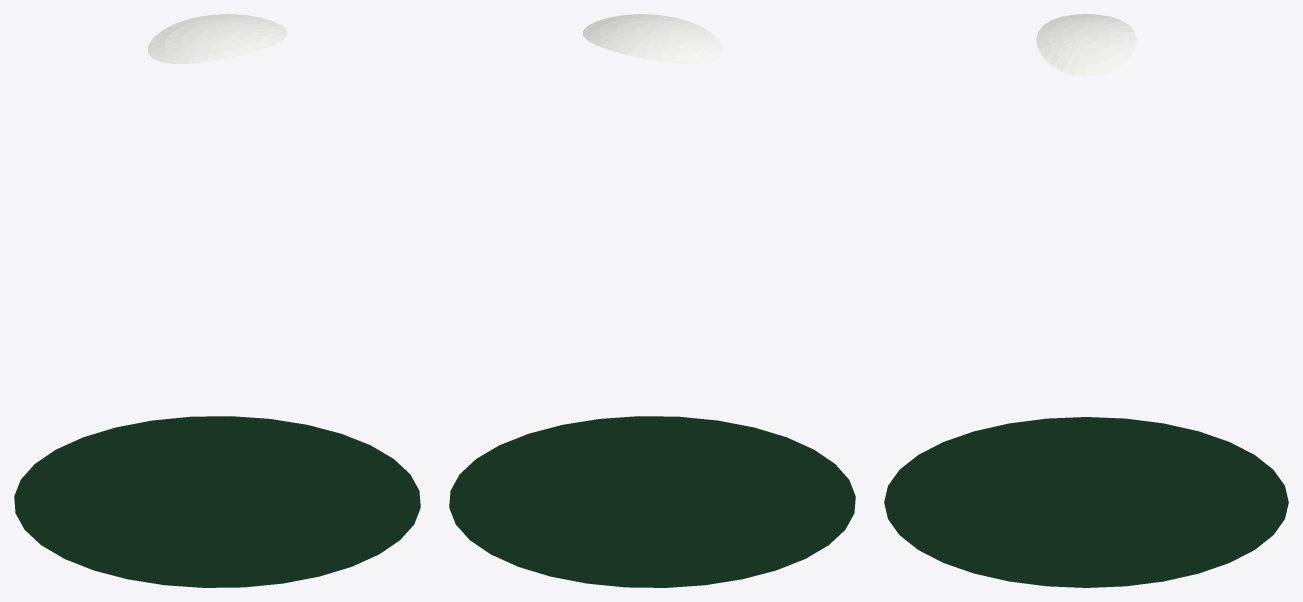
Rendered from gloss.obj.
3 views of the same model, side by side, from view 1: azimuth 30°, elevation 25°; view 2: azimuth 150°, elevation 25°; view 3: azimuth 270°, elevation 25° (orthographic).
Size of the model in its own units: 0.0446 by 0.0567 by 0.0446.
Materials: 1 (1 with a texture image).
